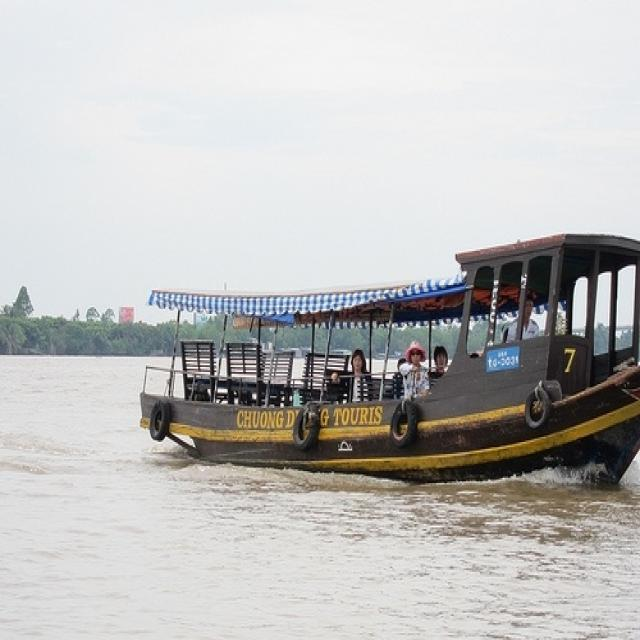boat: (141, 226, 640, 502)
